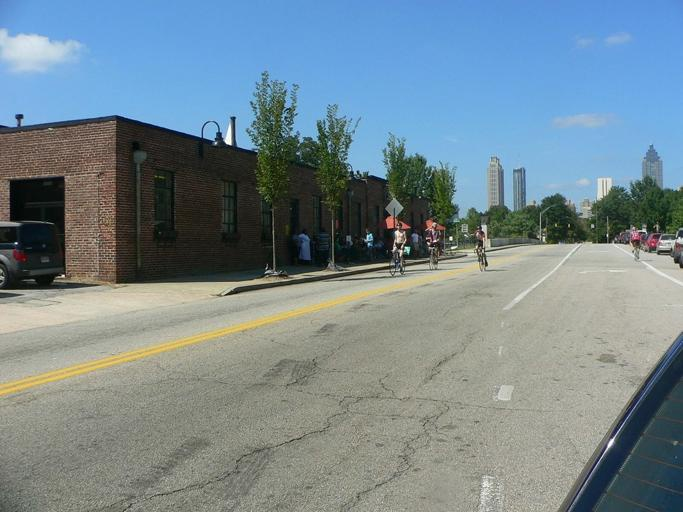non-vehicle: (390, 253, 405, 275), (474, 246, 487, 271), (427, 241, 438, 269)
